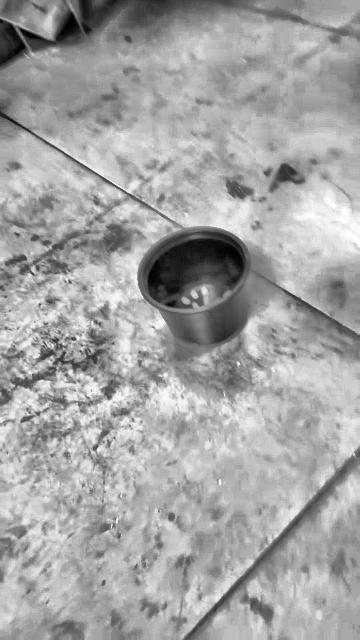pot: (138, 227, 250, 345)
